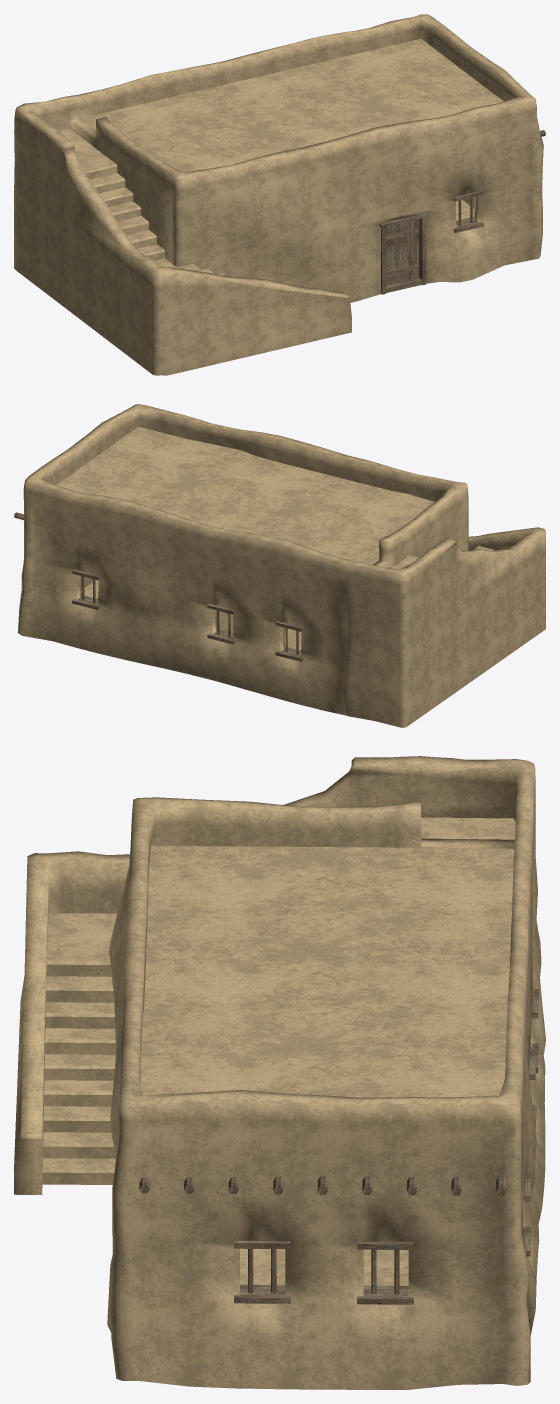
The model's file is egypt_house_004.glb.
3 views of the same model, one above another, from view 1: azimuth 30°, elevation 25°; view 2: azimuth 150°, elevation 25°; view 3: azimuth 270°, elevation 25° (orthographic). The views are drawn at different scales.
Parts seen in each view (by area): view 1: roof, walls; view 2: roof, walls; view 3: roof, walls.
Boxes of the visible parts, bbox=[...] form: roof: bbox=[14, 14, 543, 232]; walls: bbox=[14, 55, 545, 375]; roof: bbox=[23, 404, 490, 623]; walls: bbox=[14, 441, 545, 727]; roof: bbox=[110, 756, 537, 1196]; walls: bbox=[14, 815, 545, 1389].
Bounding box in the file's own units: 9 × 3.35 × 5.63.
Materials: 2 (2 with a texture image).
